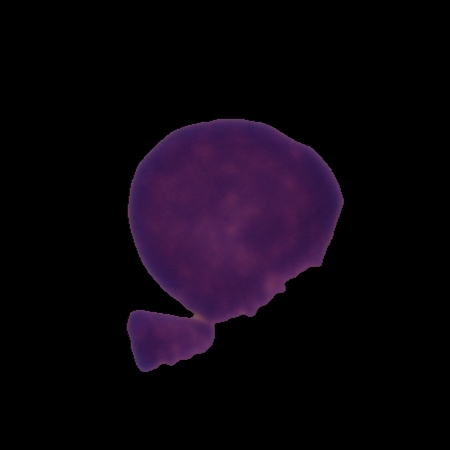HEM: (123, 115, 347, 374)
